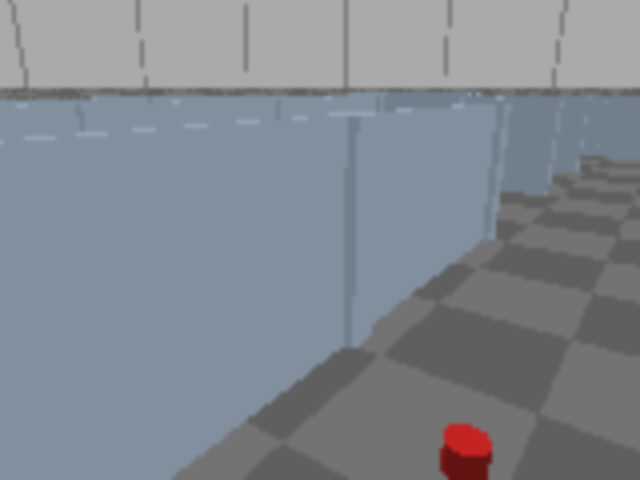puck: (441, 425, 492, 478)
